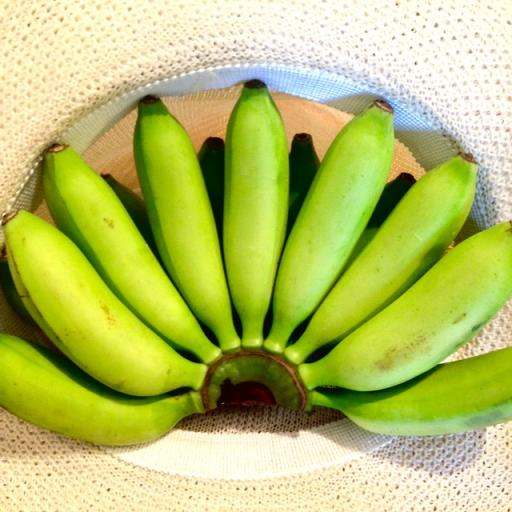banana-unripe: (0, 52, 512, 451)
